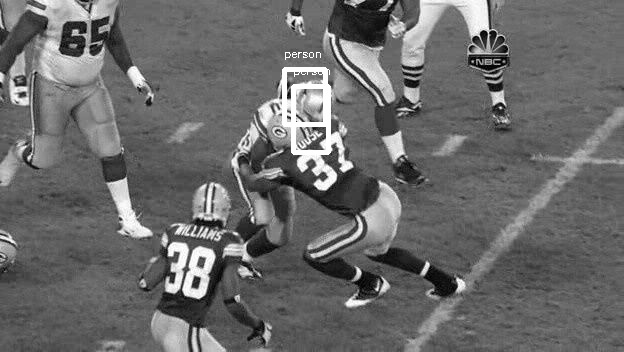person: (298, 81, 335, 128), (297, 81, 334, 128), (299, 81, 336, 128), (298, 80, 335, 127), (298, 82, 335, 129)
target_negative: (434, 4, 484, 189), (580, 35, 603, 341), (385, 107, 530, 150), (39, 335, 411, 342), (372, 343, 608, 347), (599, 260, 613, 301)
